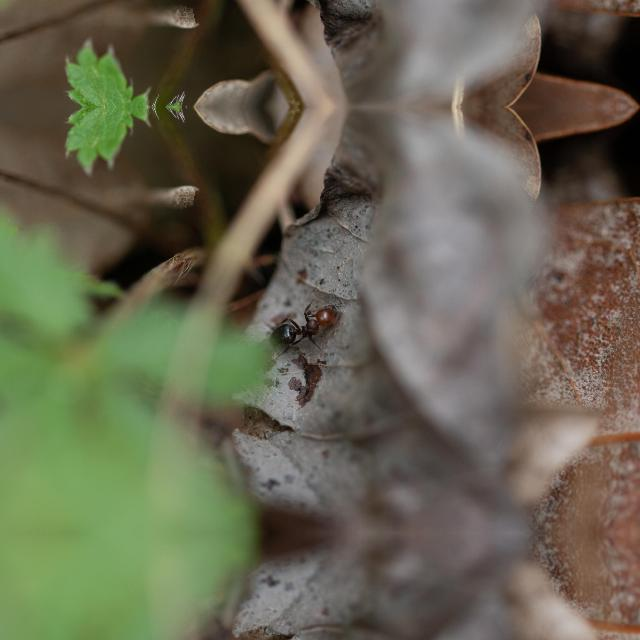Crematogaster: (256, 290, 342, 360)
